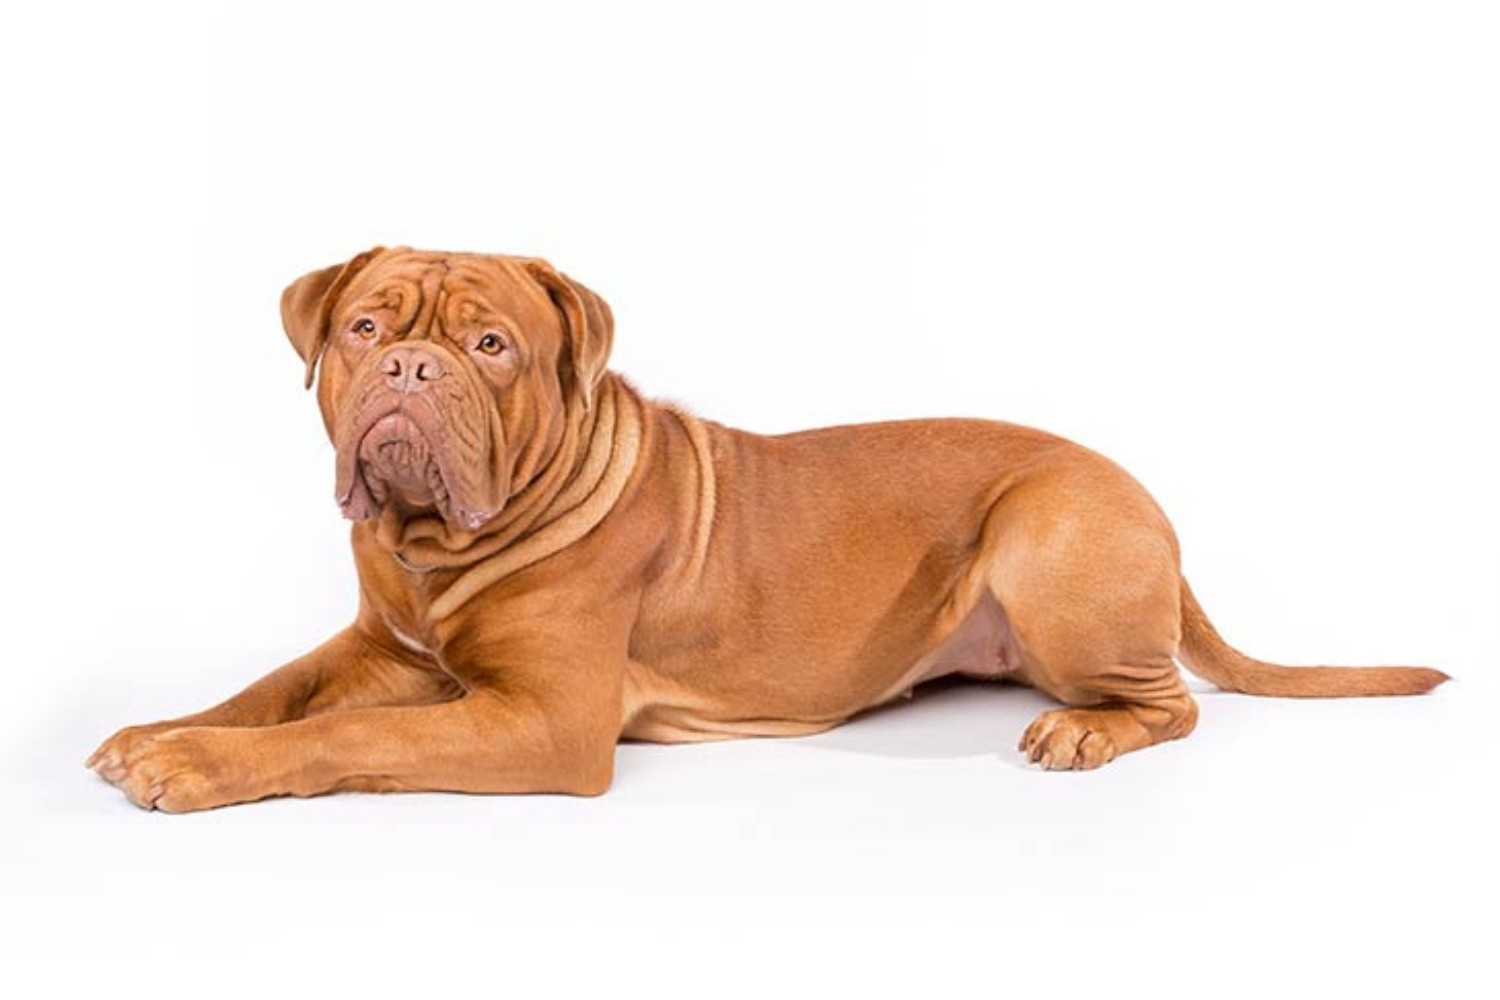dogue_de_bordeaux: (80, 243, 1456, 814)
